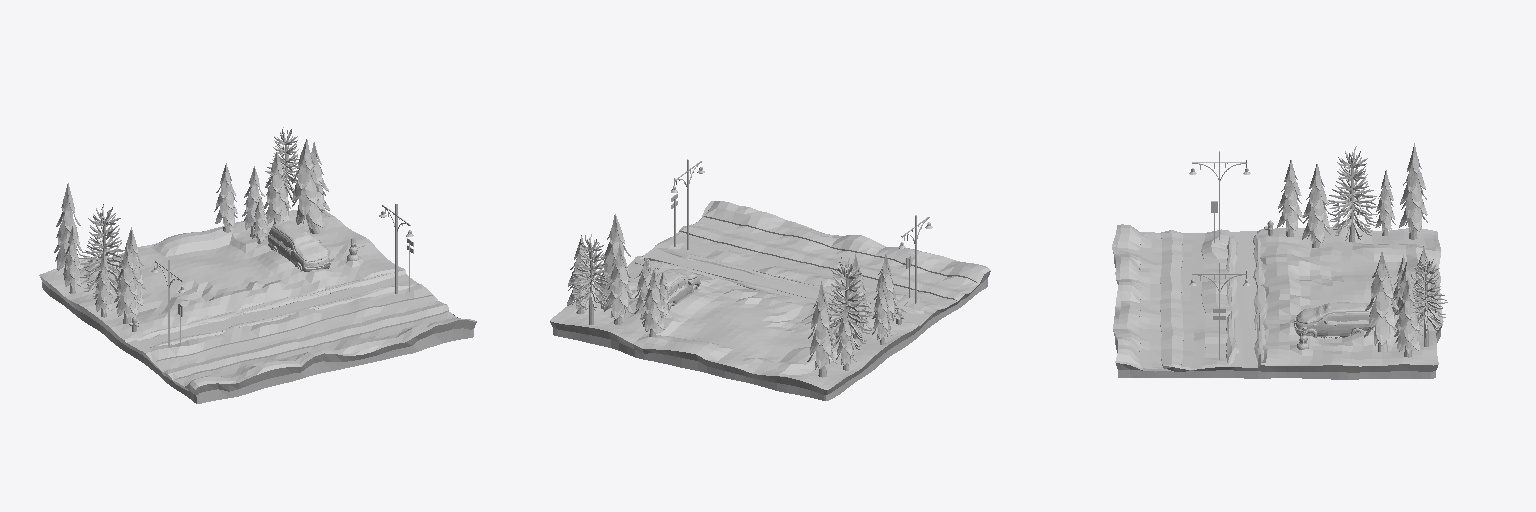
The model's file is Low Poly Winter Scene2.obj.
3 renders of one model, left to right at view 1: azimuth 30°, elevation 25°; view 2: azimuth 150°, elevation 25°; view 3: azimuth 270°, elevation 25°, orthographic.
Visible parts, largest first — view 1: Plane.001, Plane.009_Plane.024, Cylinder_Cylinder.009; view 2: Plane.001, Plane.009_Plane.024, Cylinder_Cylinder.009; view 3: Plane.001, Plane.009_Plane.024, Cylinder_Cylinder.009.
Part boxes in pixels (bbox=[...]): Plane.001: bbox=[39, 210, 476, 403]; Plane.009_Plane.024: bbox=[54, 127, 329, 323]; Cylinder_Cylinder.009: bbox=[268, 221, 330, 271]; Plane.001: bbox=[550, 201, 990, 400]; Plane.009_Plane.024: bbox=[567, 214, 899, 377]; Cylinder_Cylinder.009: bbox=[657, 269, 700, 310]; Plane.001: bbox=[1112, 224, 1442, 379]; Plane.009_Plane.024: bbox=[1277, 143, 1447, 357]; Cylinder_Cylinder.009: bbox=[1294, 302, 1374, 338].
Size of the model in its own units: 17.2 by 6.45 by 17.61.